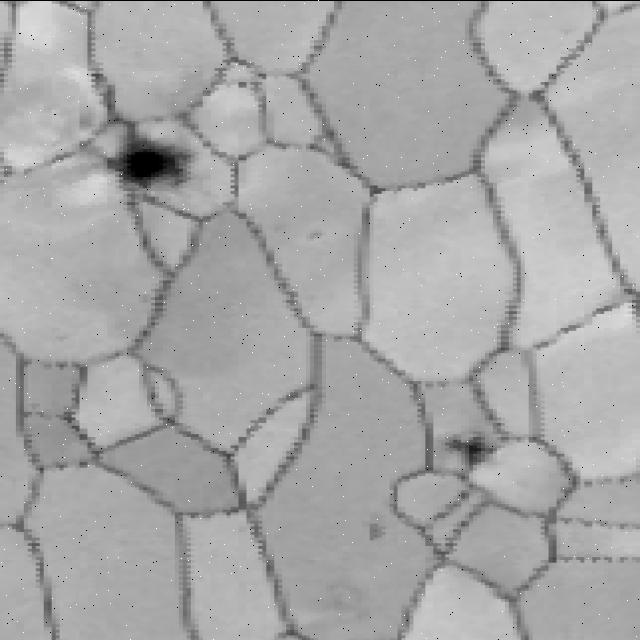good_void: (93, 122, 208, 197), (444, 433, 510, 473), (364, 521, 389, 540), (303, 228, 325, 240), (232, 76, 252, 89)
